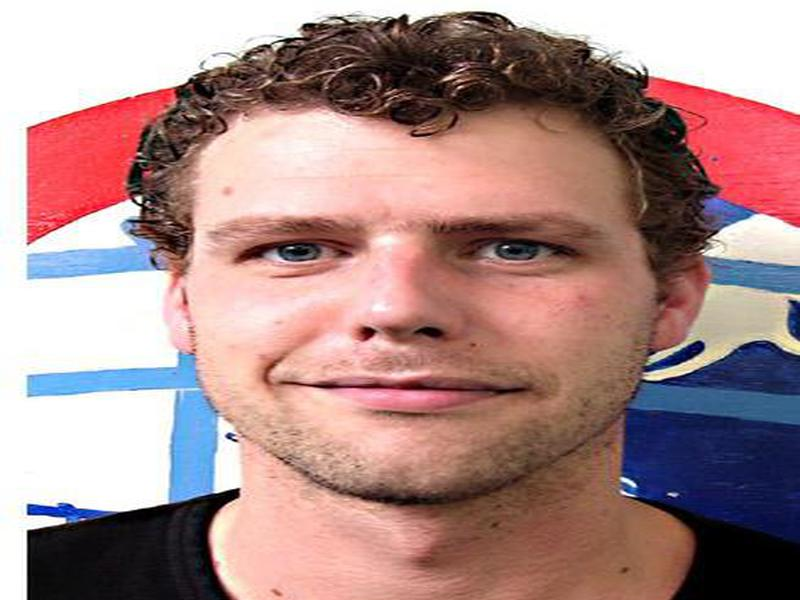without_mask: (189, 121, 638, 506)
